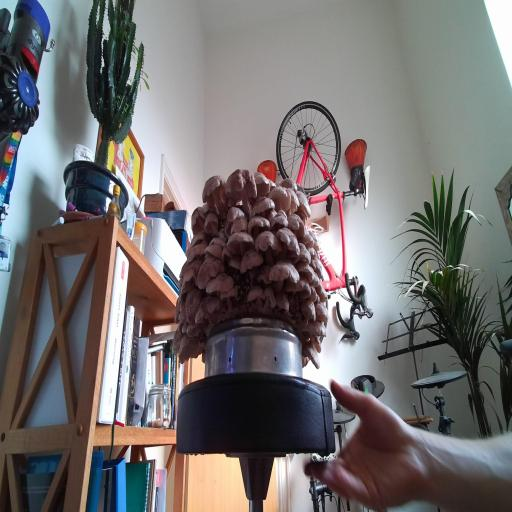Shiitake Mushroom: (217, 154, 268, 220), (244, 221, 292, 270), (185, 247, 233, 292), (174, 249, 211, 301), (261, 175, 300, 221), (261, 254, 307, 293), (198, 167, 233, 215), (198, 266, 241, 303), (215, 197, 250, 238), (239, 207, 278, 242), (177, 281, 207, 326), (279, 208, 314, 243), (295, 336, 329, 370), (233, 244, 269, 274), (280, 271, 316, 300), (215, 275, 243, 312), (177, 332, 201, 369), (290, 257, 320, 285), (181, 237, 213, 263), (226, 230, 256, 256), (304, 254, 332, 281), (301, 326, 328, 354), (276, 227, 300, 257), (295, 185, 314, 221), (195, 297, 220, 324), (282, 183, 302, 216), (306, 267, 327, 298), (269, 288, 296, 312), (189, 203, 209, 235), (183, 226, 210, 249), (248, 196, 276, 218), (246, 280, 267, 309), (258, 284, 278, 314), (253, 167, 272, 198), (201, 238, 227, 260), (267, 211, 292, 232), (300, 298, 316, 329), (170, 325, 184, 357), (302, 320, 328, 337), (203, 210, 220, 236), (292, 242, 311, 264), (296, 231, 318, 250), (176, 277, 190, 306), (228, 215, 250, 233), (314, 285, 332, 307), (293, 205, 311, 227), (176, 257, 194, 279), (207, 233, 230, 250), (219, 245, 235, 268), (184, 321, 203, 339), (263, 205, 279, 226), (278, 176, 300, 191), (315, 301, 329, 323), (258, 264, 271, 285), (228, 252, 242, 270), (201, 204, 220, 217), (176, 315, 187, 336), (304, 246, 319, 260), (174, 298, 182, 324), (308, 285, 319, 303), (308, 229, 321, 244), (177, 302, 186, 321), (180, 320, 191, 335), (268, 176, 277, 190), (313, 241, 320, 251)
